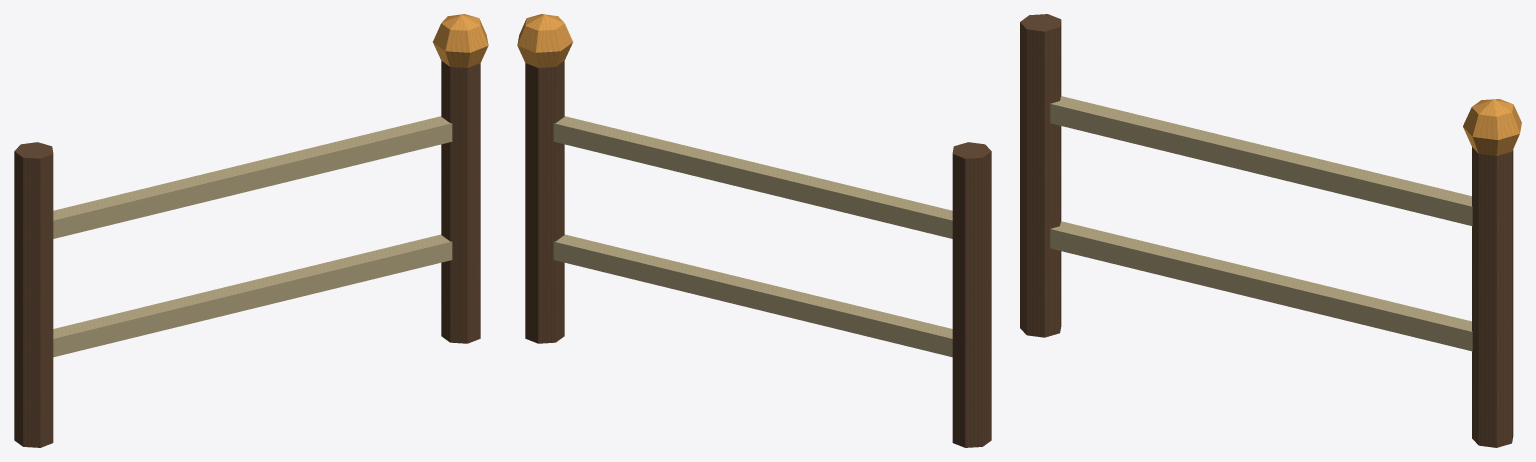
File: atlas100-clockwork-util04.lod1.glb
The picture shows the model from 3 angles, left to right: view 1: azimuth 30°, elevation 25°; view 2: azimuth 150°, elevation 25°; view 3: azimuth 330°, elevation 25°; orthographic projection. The views are drawn at different scales.
Parts seen in each view (by area): view 1: atlas100-clockwork-util04:part-000, atlas100-clockwork-util04:part-004, atlas100-clockwork-util04:part-005, atlas100-clockwork-util04:part-002, atlas100-clockwork-util04:part-003; view 2: atlas100-clockwork-util04:part-000, atlas100-clockwork-util04:part-004, atlas100-clockwork-util04:part-005, atlas100-clockwork-util04:part-002, atlas100-clockwork-util04:part-003; view 3: atlas100-clockwork-util04:part-000, atlas100-clockwork-util04:part-004, atlas100-clockwork-util04:part-005, atlas100-clockwork-util04:part-002, atlas100-clockwork-util04:part-003.
Boxes of the visible parts, x1=… form: atlas100-clockwork-util04:part-000: x1=14, y1=142, x2=53, y2=447; atlas100-clockwork-util04:part-004: x1=53, y1=234, x2=452, y2=357; atlas100-clockwork-util04:part-005: x1=53, y1=116, x2=452, y2=238; atlas100-clockwork-util04:part-002: x1=441, y1=61, x2=480, y2=343; atlas100-clockwork-util04:part-003: x1=433, y1=14, x2=488, y2=67; atlas100-clockwork-util04:part-000: x1=952, y1=142, x2=991, y2=447; atlas100-clockwork-util04:part-004: x1=553, y1=234, x2=952, y2=357; atlas100-clockwork-util04:part-005: x1=553, y1=116, x2=952, y2=238; atlas100-clockwork-util04:part-002: x1=525, y1=61, x2=564, y2=343; atlas100-clockwork-util04:part-003: x1=517, y1=14, x2=572, y2=67; atlas100-clockwork-util04:part-000: x1=1020, y1=14, x2=1061, y2=337; atlas100-clockwork-util04:part-004: x1=1050, y1=221, x2=1472, y2=351; atlas100-clockwork-util04:part-005: x1=1050, y1=96, x2=1472, y2=226; atlas100-clockwork-util04:part-002: x1=1472, y1=147, x2=1513, y2=447; atlas100-clockwork-util04:part-003: x1=1463, y1=99, x2=1521, y2=155.
Bounding box in the file's own units: 1.86 × 1.22 × 0.195.
Materials: 3 (3 with a texture image).
